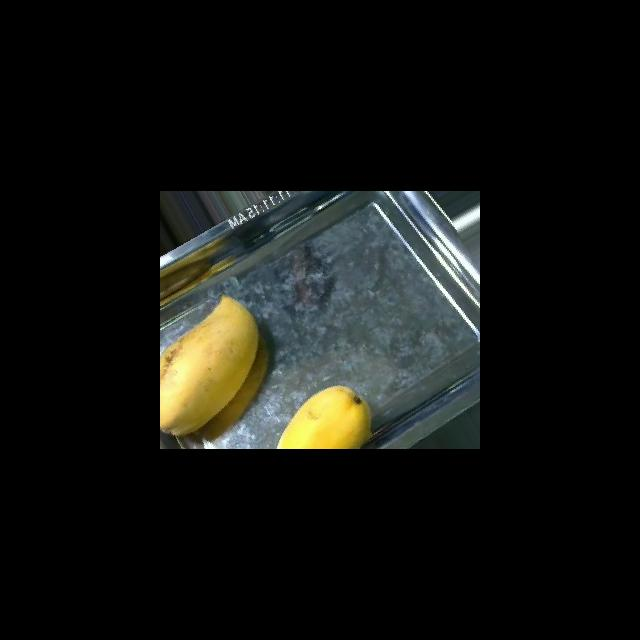Mango: (160, 294, 259, 436), (275, 384, 372, 448)
